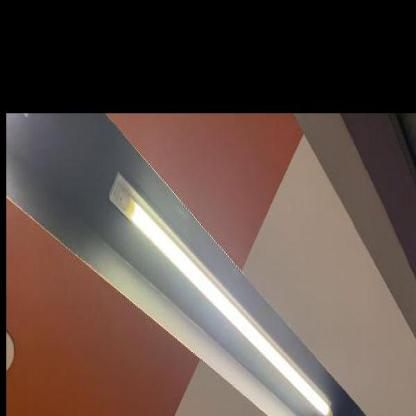light_on: (102, 161, 340, 415)
